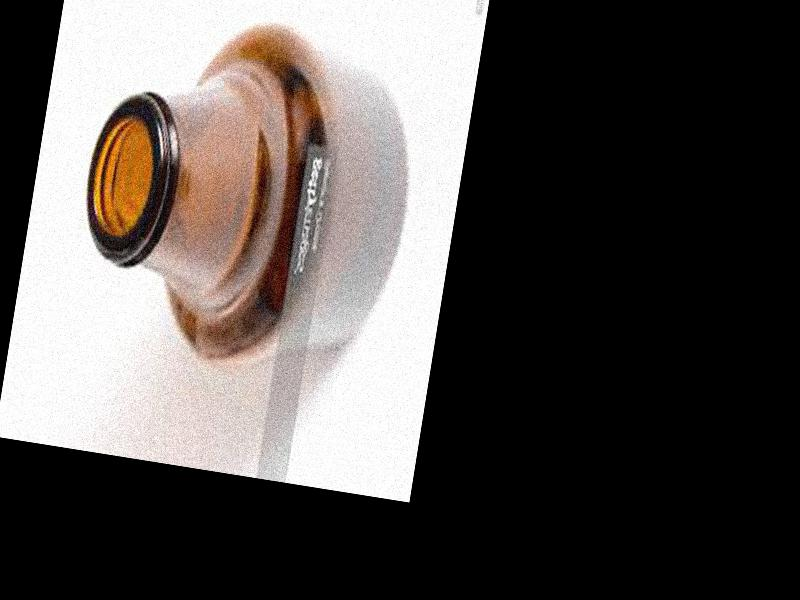Beer: (61, 0, 432, 392)
